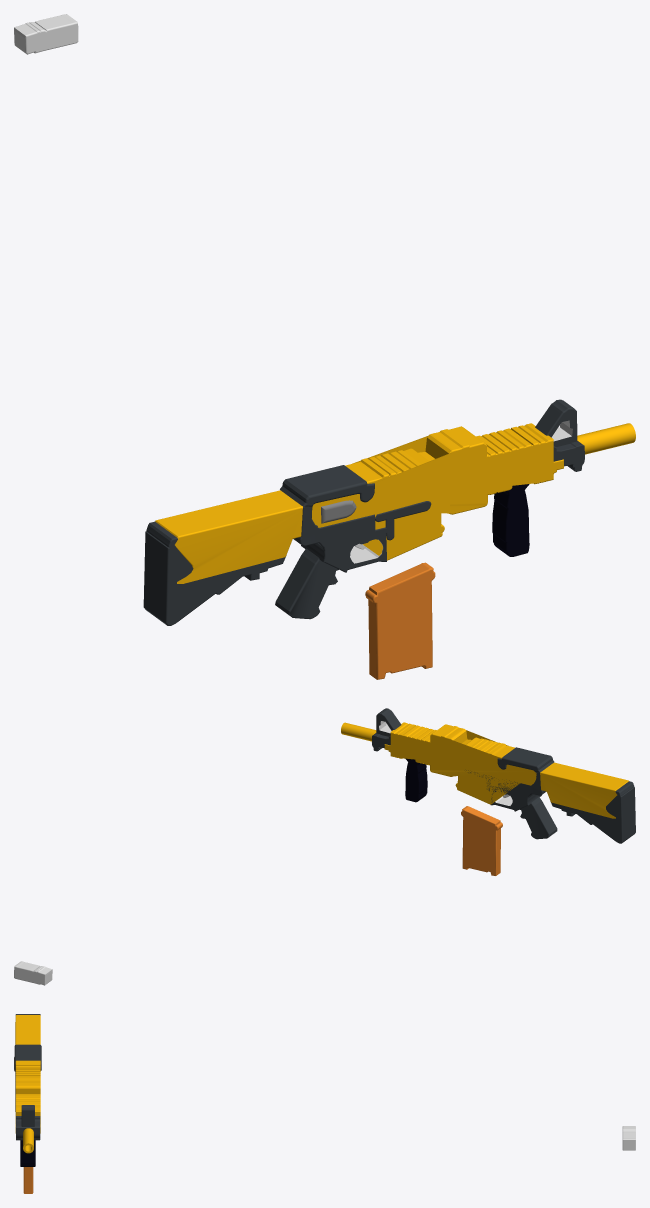
The model's file is NERF M4A1.fbx.
3 renders of one model, top to bottom at view 1: azimuth 30°, elevation 25°; view 2: azimuth 150°, elevation 25°; view 3: azimuth 270°, elevation 25°, orthographic. The views are drawn at different scales.
Parts seen in each view (by area): view 1: Cap_2, Cap_2_8, Cap_2_10, Extrude_8, Cap_2_6, Cap_2_9, Extrude_13, Extrude_12, Extrude, Cap_2_13, Cap_2_3, Extrude_11 (+3 smaller); view 2: Cap_1, Cap_1_8, Cap_1_10, Extrude_8, Cap_1_9, Extrude_13, Cap_1_6, Extrude_12, Extrude, Cap_1_3, Cap_1_13, Extrude_11 (+1 smaller); view 3: Extrude_8, Extrude_13, Extrude, Extrude_4, Extrude_3, Extrude_2.
Part boxes in pixels (x1=…): Cap_2: x1=312, y1=441, x2=563, y2=559; Cap_2_8: x1=175, y1=508, x2=302, y2=583; Cap_2_10: x1=374, y1=570, x2=434, y2=678; Extrude_8: x1=345, y1=423, x2=552, y2=524; Cap_2_6: x1=301, y1=502, x2=430, y2=571; Cap_2_9: x1=167, y1=539, x2=284, y2=624; Extrude_13: x1=155, y1=490, x2=301, y2=537; Extrude_12: x1=144, y1=522, x2=250, y2=625; Extrude: x1=280, y1=465, x2=365, y2=505; Cap_2_13: x1=506, y1=484, x2=528, y2=556; Cap_2_3: x1=290, y1=560, x2=337, y2=618; Extrude_11: x1=365, y1=563, x2=432, y2=679; Cap_1: x1=385, y1=733, x2=536, y2=804; Cap_1_8: x1=540, y1=773, x2=616, y2=818; Cap_1_10: x1=461, y1=810, x2=497, y2=875; Extrude_8: x1=391, y1=722, x2=514, y2=757; Cap_1_9: x1=551, y1=792, x2=621, y2=842; Extrude_13: x1=541, y1=762, x2=628, y2=790; Cap_1_6: x1=466, y1=770, x2=541, y2=810; Extrude_12: x1=572, y1=781, x2=635, y2=842; Extrude: x1=503, y1=747, x2=553, y2=771; Cap_1_3: x1=520, y1=804, x2=548, y2=838; Cap_1_13: x1=405, y1=758, x2=418, y2=801; Extrude_11: x1=462, y1=806, x2=502, y2=875; Extrude_8: x1=16, y1=1060, x2=39, y2=1115; Extrude_13: x1=16, y1=1015, x2=39, y2=1044; Extrude: x1=16, y1=1044, x2=40, y2=1060; Extrude_4: x1=16, y1=1116, x2=39, y2=1140; Extrude_3: x1=623, y1=1126, x2=635, y2=1150; Extrude_2: x1=22, y1=1105, x2=34, y2=1126.
Bounding box in the file's own units: 762 × 349 × 1583.
